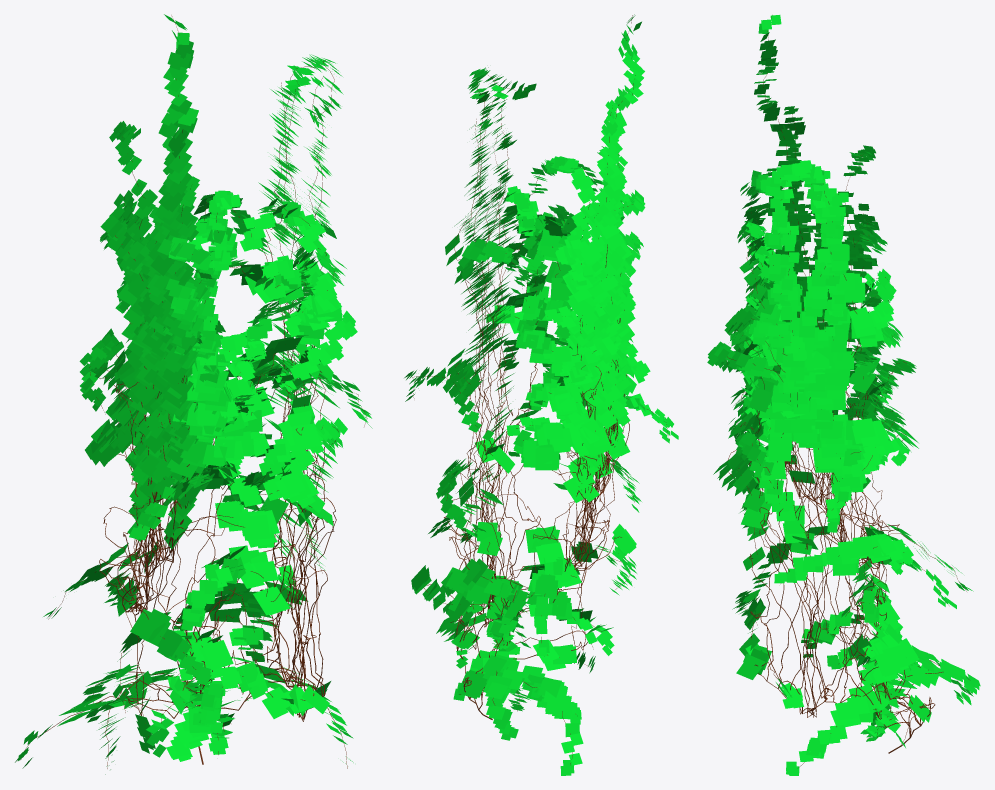
Rendered from pillar_IVY_not_cracked.fbx.
3 views of the same model, side by side, from view 1: azimuth 30°, elevation 25°; view 2: azimuth 150°, elevation 25°; view 3: azimuth 270°, elevation 25° (orthographic). The views are drawn at different scales.
Visible parts, largest first — view 1: IvyLeaf, IVY_Curve; view 2: IvyLeaf, IVY_Curve; view 3: IvyLeaf, IVY_Curve.
Part boxes in pixels (bbox=[...]): IvyLeaf: bbox=[15, 14, 372, 774]; IVY_Curve: bbox=[21, 15, 367, 768]; IvyLeaf: bbox=[404, 14, 678, 775]; IVY_Curve: bbox=[412, 15, 669, 764]; IvyLeaf: bbox=[707, 15, 980, 775]; IVY_Curve: bbox=[727, 16, 970, 767].
Bounding box in the file's own units: 114 × 311 × 111.
